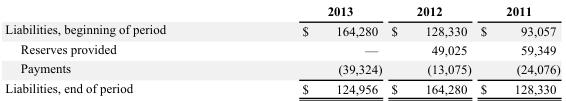table: (4, 3, 559, 95)
table column: (4, 3, 233, 95), (233, 3, 386, 95), (386, 3, 475, 95), (475, 3, 559, 95)
table column header: (4, 3, 559, 19)
table row: (4, 19, 559, 39), (4, 58, 559, 78), (4, 39, 559, 58), (4, 78, 559, 95), (4, 3, 559, 19)
